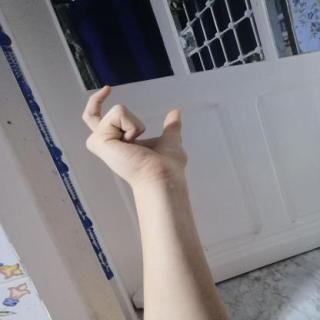NOON: (69, 76, 199, 192)
